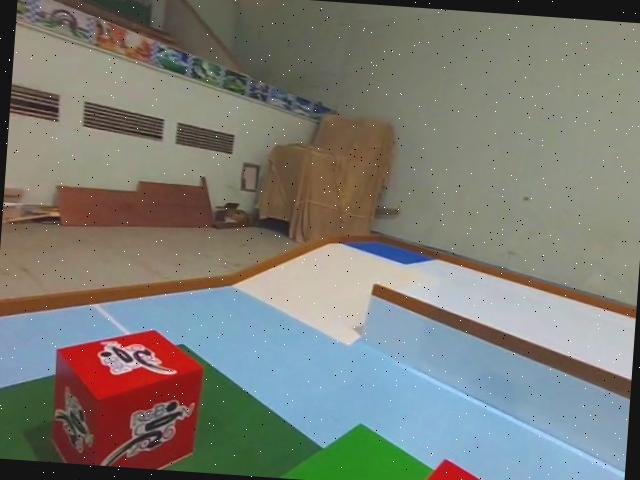R1: (46, 321, 203, 472)
